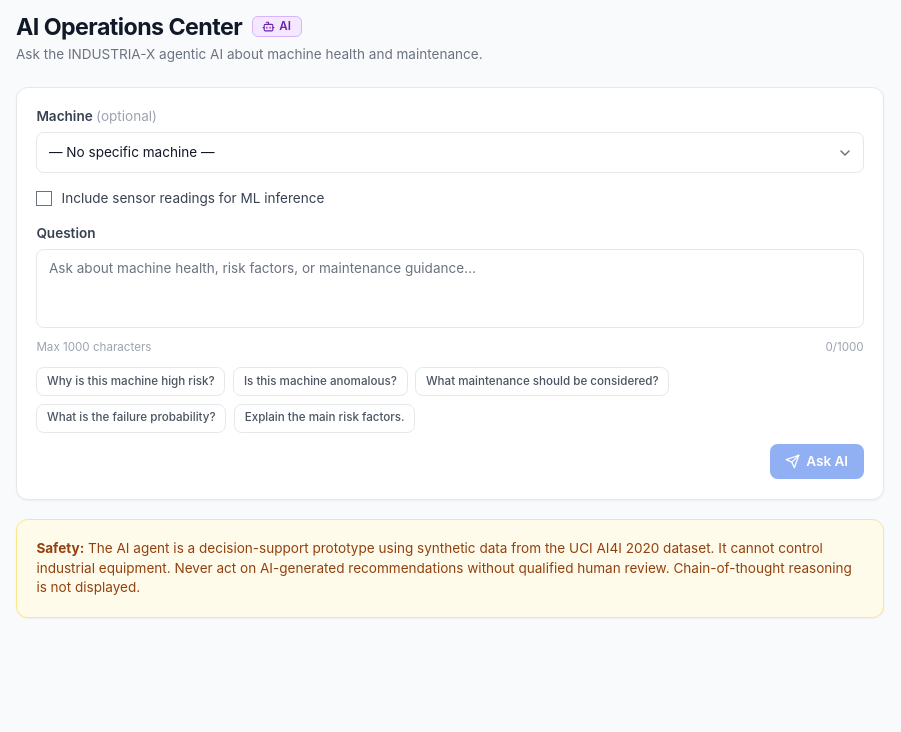
Test: AIOperationsPage — API error › shows error message without stack trace
In the text box named "AI query": (450, 288) [36, 249, 864, 328], type "What is the risk?"
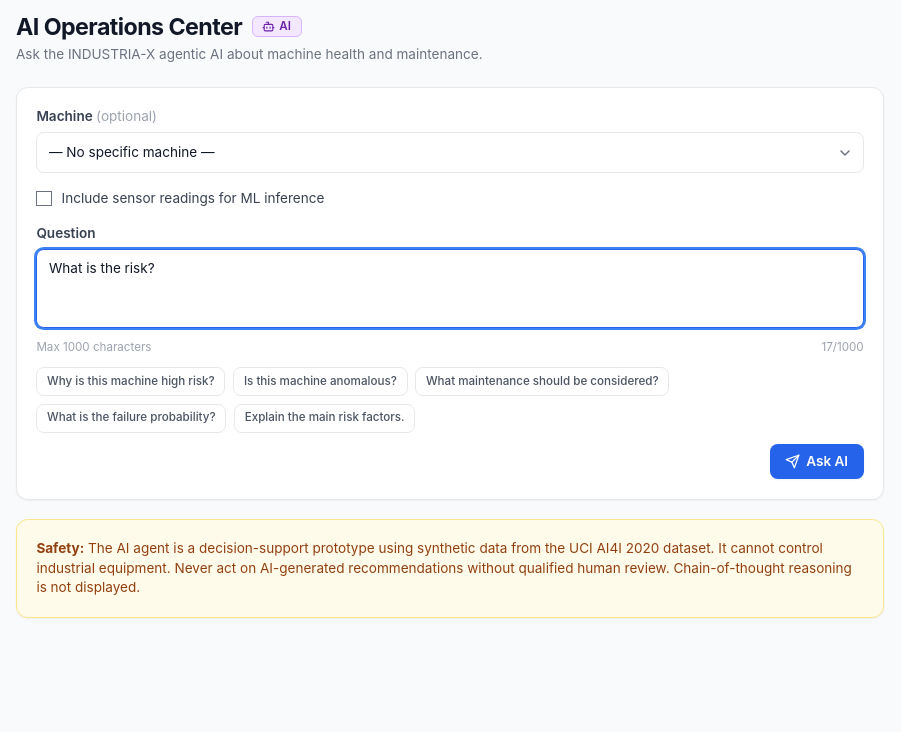
Click the button "Ask AI": (817, 462) [770, 444, 864, 479]
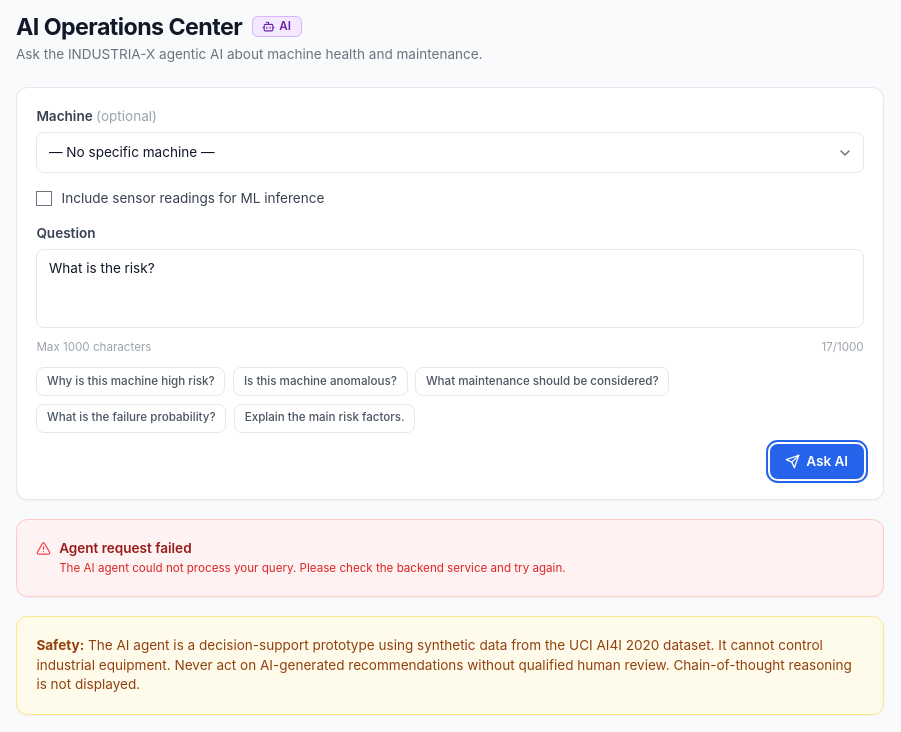
expect the text "Agent request failed" is shown: met, box [59, 540, 192, 556]
